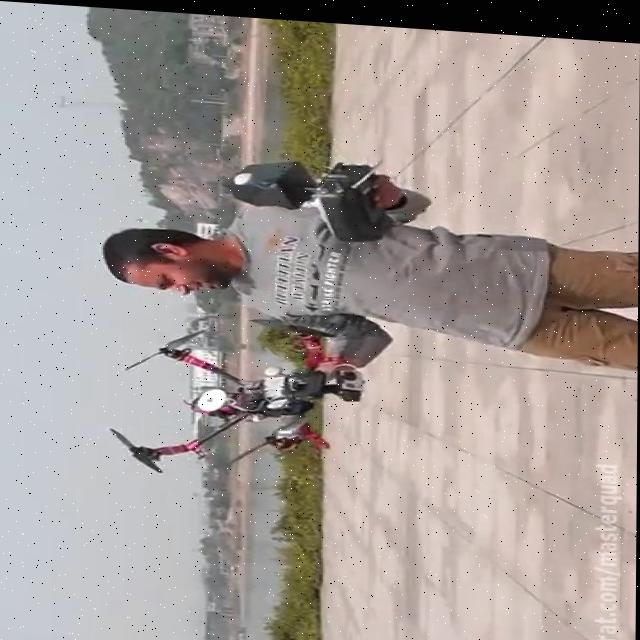drone: (107, 304, 364, 483)
